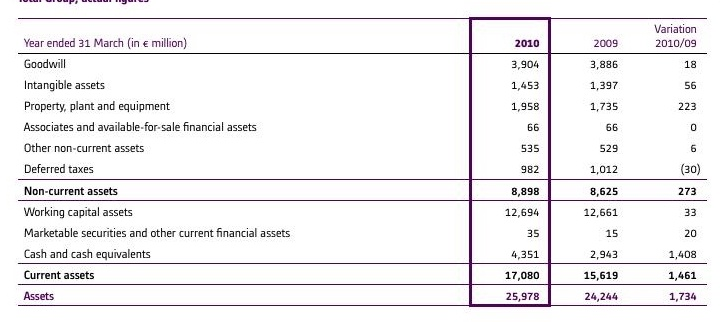table: (0, 0, 720, 322)
